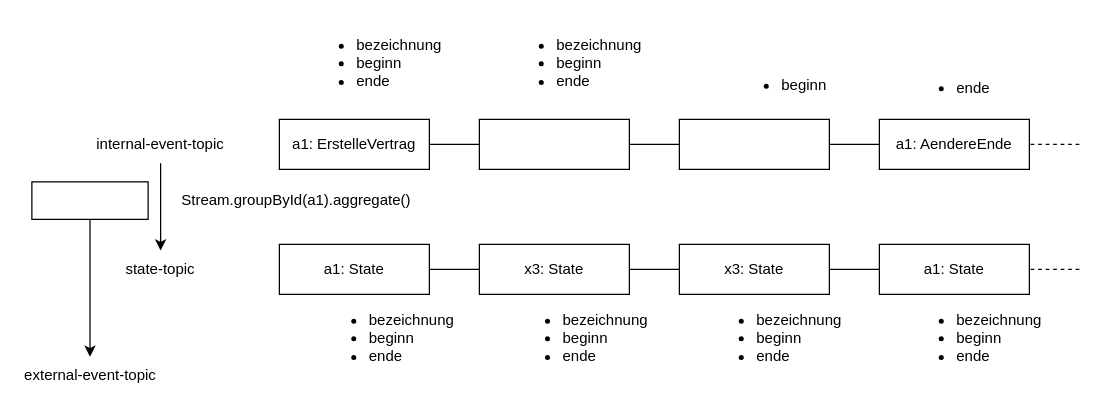
Some shapes in this 1103 by 416 pixel diagram are drawn without their labels. The box of each missing label's shape, as (x1, y1, x2, y2) in pixels:
EventAggregator: (31, 181, 148, 219)
x3: AendereBeginn: (678, 118, 829, 169)
x3: ErstelleVertrag: (478, 118, 629, 169)
